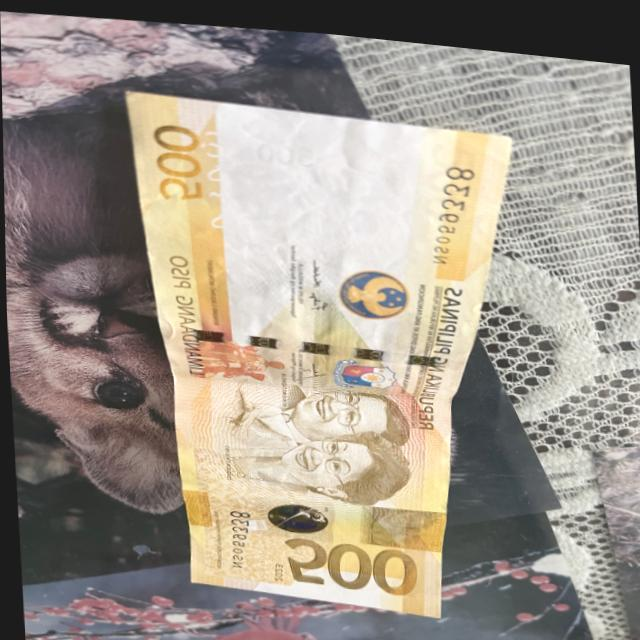concealed_value: (354, 489, 441, 546)
optically_variable_device: (255, 487, 335, 538)
security_thread: (173, 312, 443, 373)
see_through_mark: (195, 119, 237, 227)
serial_number: (405, 137, 481, 267), (214, 491, 255, 573)
value: (272, 525, 425, 590)
value_watermark: (235, 125, 323, 173)
watermark: (209, 104, 437, 254)
